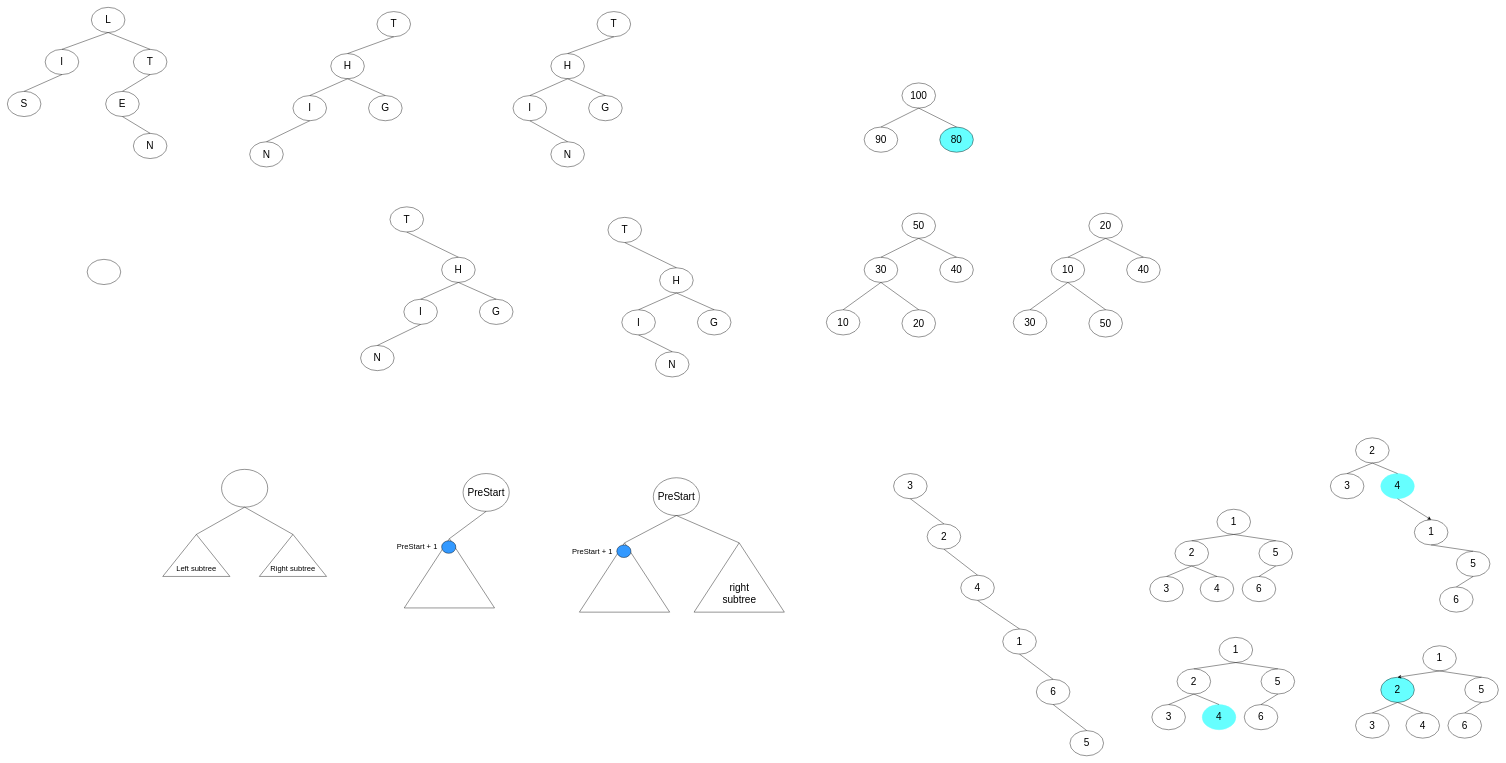
The diagram is 1506 pixels wide and 763 high, and some of its shapes have lost their labels. Each missing label, with the centre of its shape:
Node: point 104,272
Root: point 244,488
